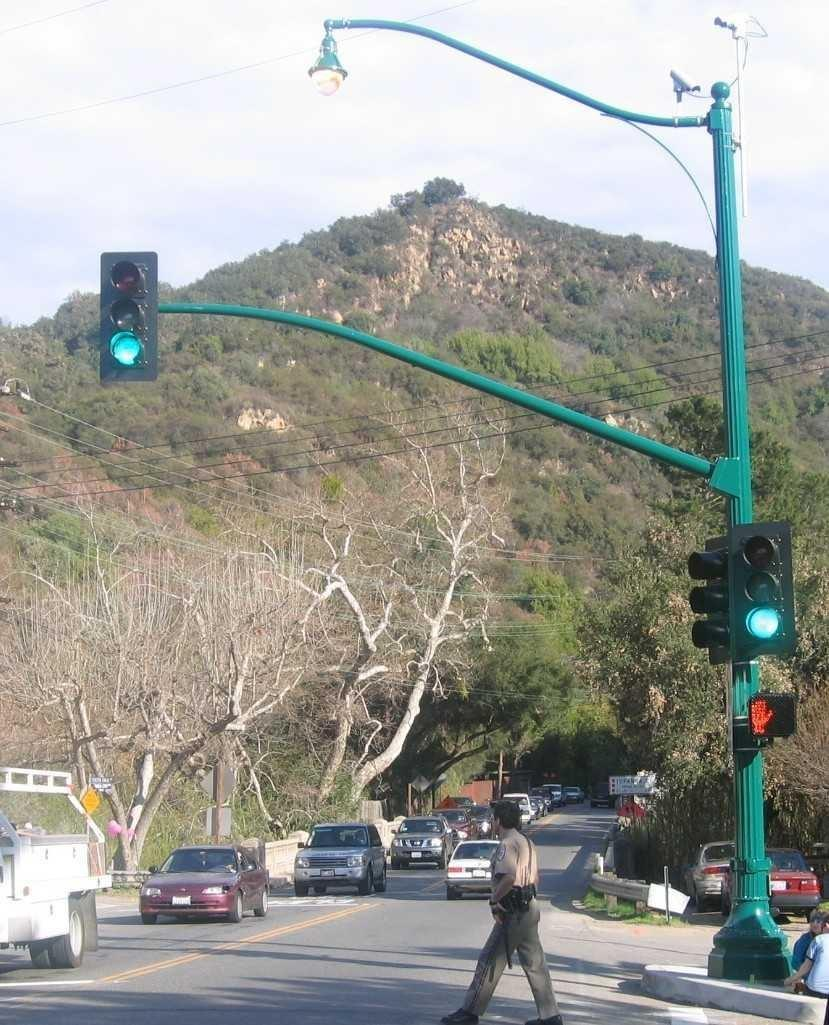2: (728, 527, 786, 650), (102, 250, 159, 374)
3: (731, 523, 784, 576), (102, 253, 152, 302)
5: (746, 694, 783, 737)
red traffic light: (104, 330, 154, 373), (742, 606, 780, 643)
